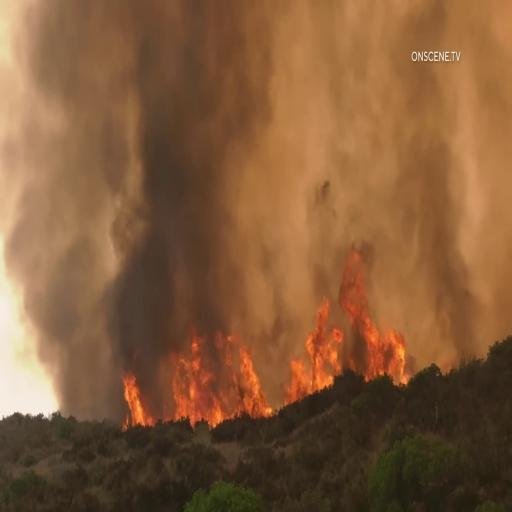fire: (332, 243, 407, 383), (165, 333, 225, 432), (282, 300, 341, 399), (224, 331, 280, 419), (119, 368, 150, 438)
smoke: (86, 68, 240, 319)
